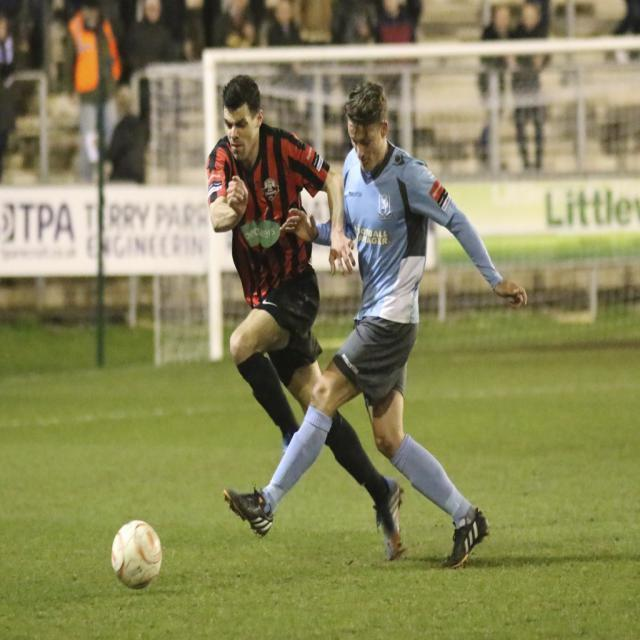football: (97, 510, 176, 598)
